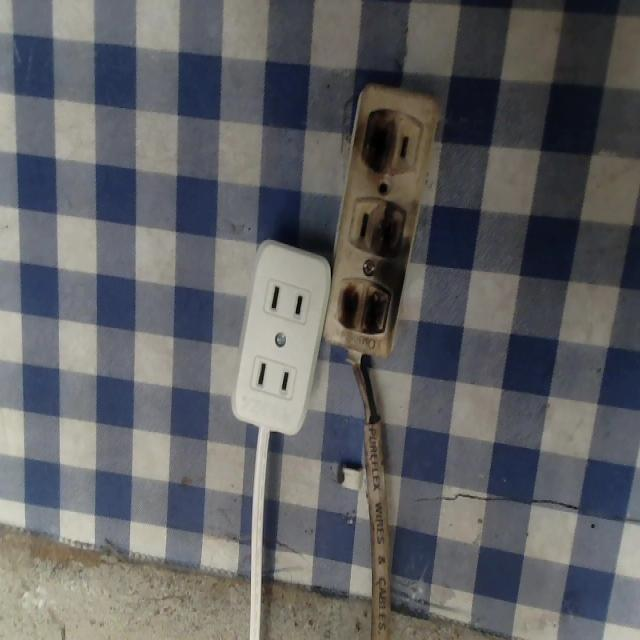-: (333, 273, 398, 355), (359, 96, 395, 176), (376, 201, 409, 264)
